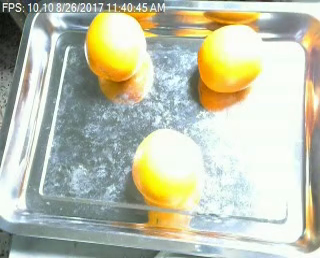Orange: (199, 24, 265, 92)
